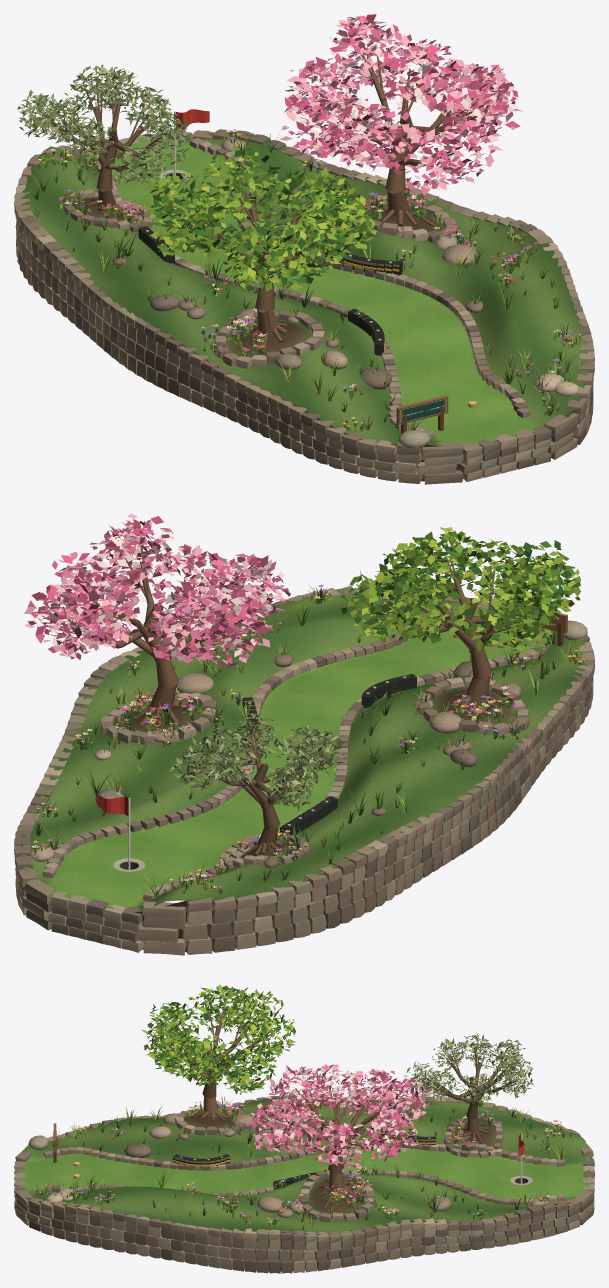
File: hole-01.glb
3 views of the same model, one above another, from view 1: azimuth 30°, elevation 25°; view 2: azimuth 150°, elevation 25°; view 3: azimuth 270°, elevation 25° (orthographic). The views are drawn at different scales.
Parts seen in each view (by area): view 1: Hole 1 – Garden Slalom; view 2: Hole 1 – Garden Slalom; view 3: Hole 1 – Garden Slalom.
Boxes of the visible parts, x1,y1,x2,y2 form: Hole 1 – Garden Slalom: (14, 14, 594, 484); Hole 1 – Garden Slalom: (14, 513, 594, 955); Hole 1 – Garden Slalom: (14, 984, 594, 1273).
Bounding box in the file's own units: 1.71 × 0.8834 × 2.82.
Materials: 7 (4 with a texture image).
